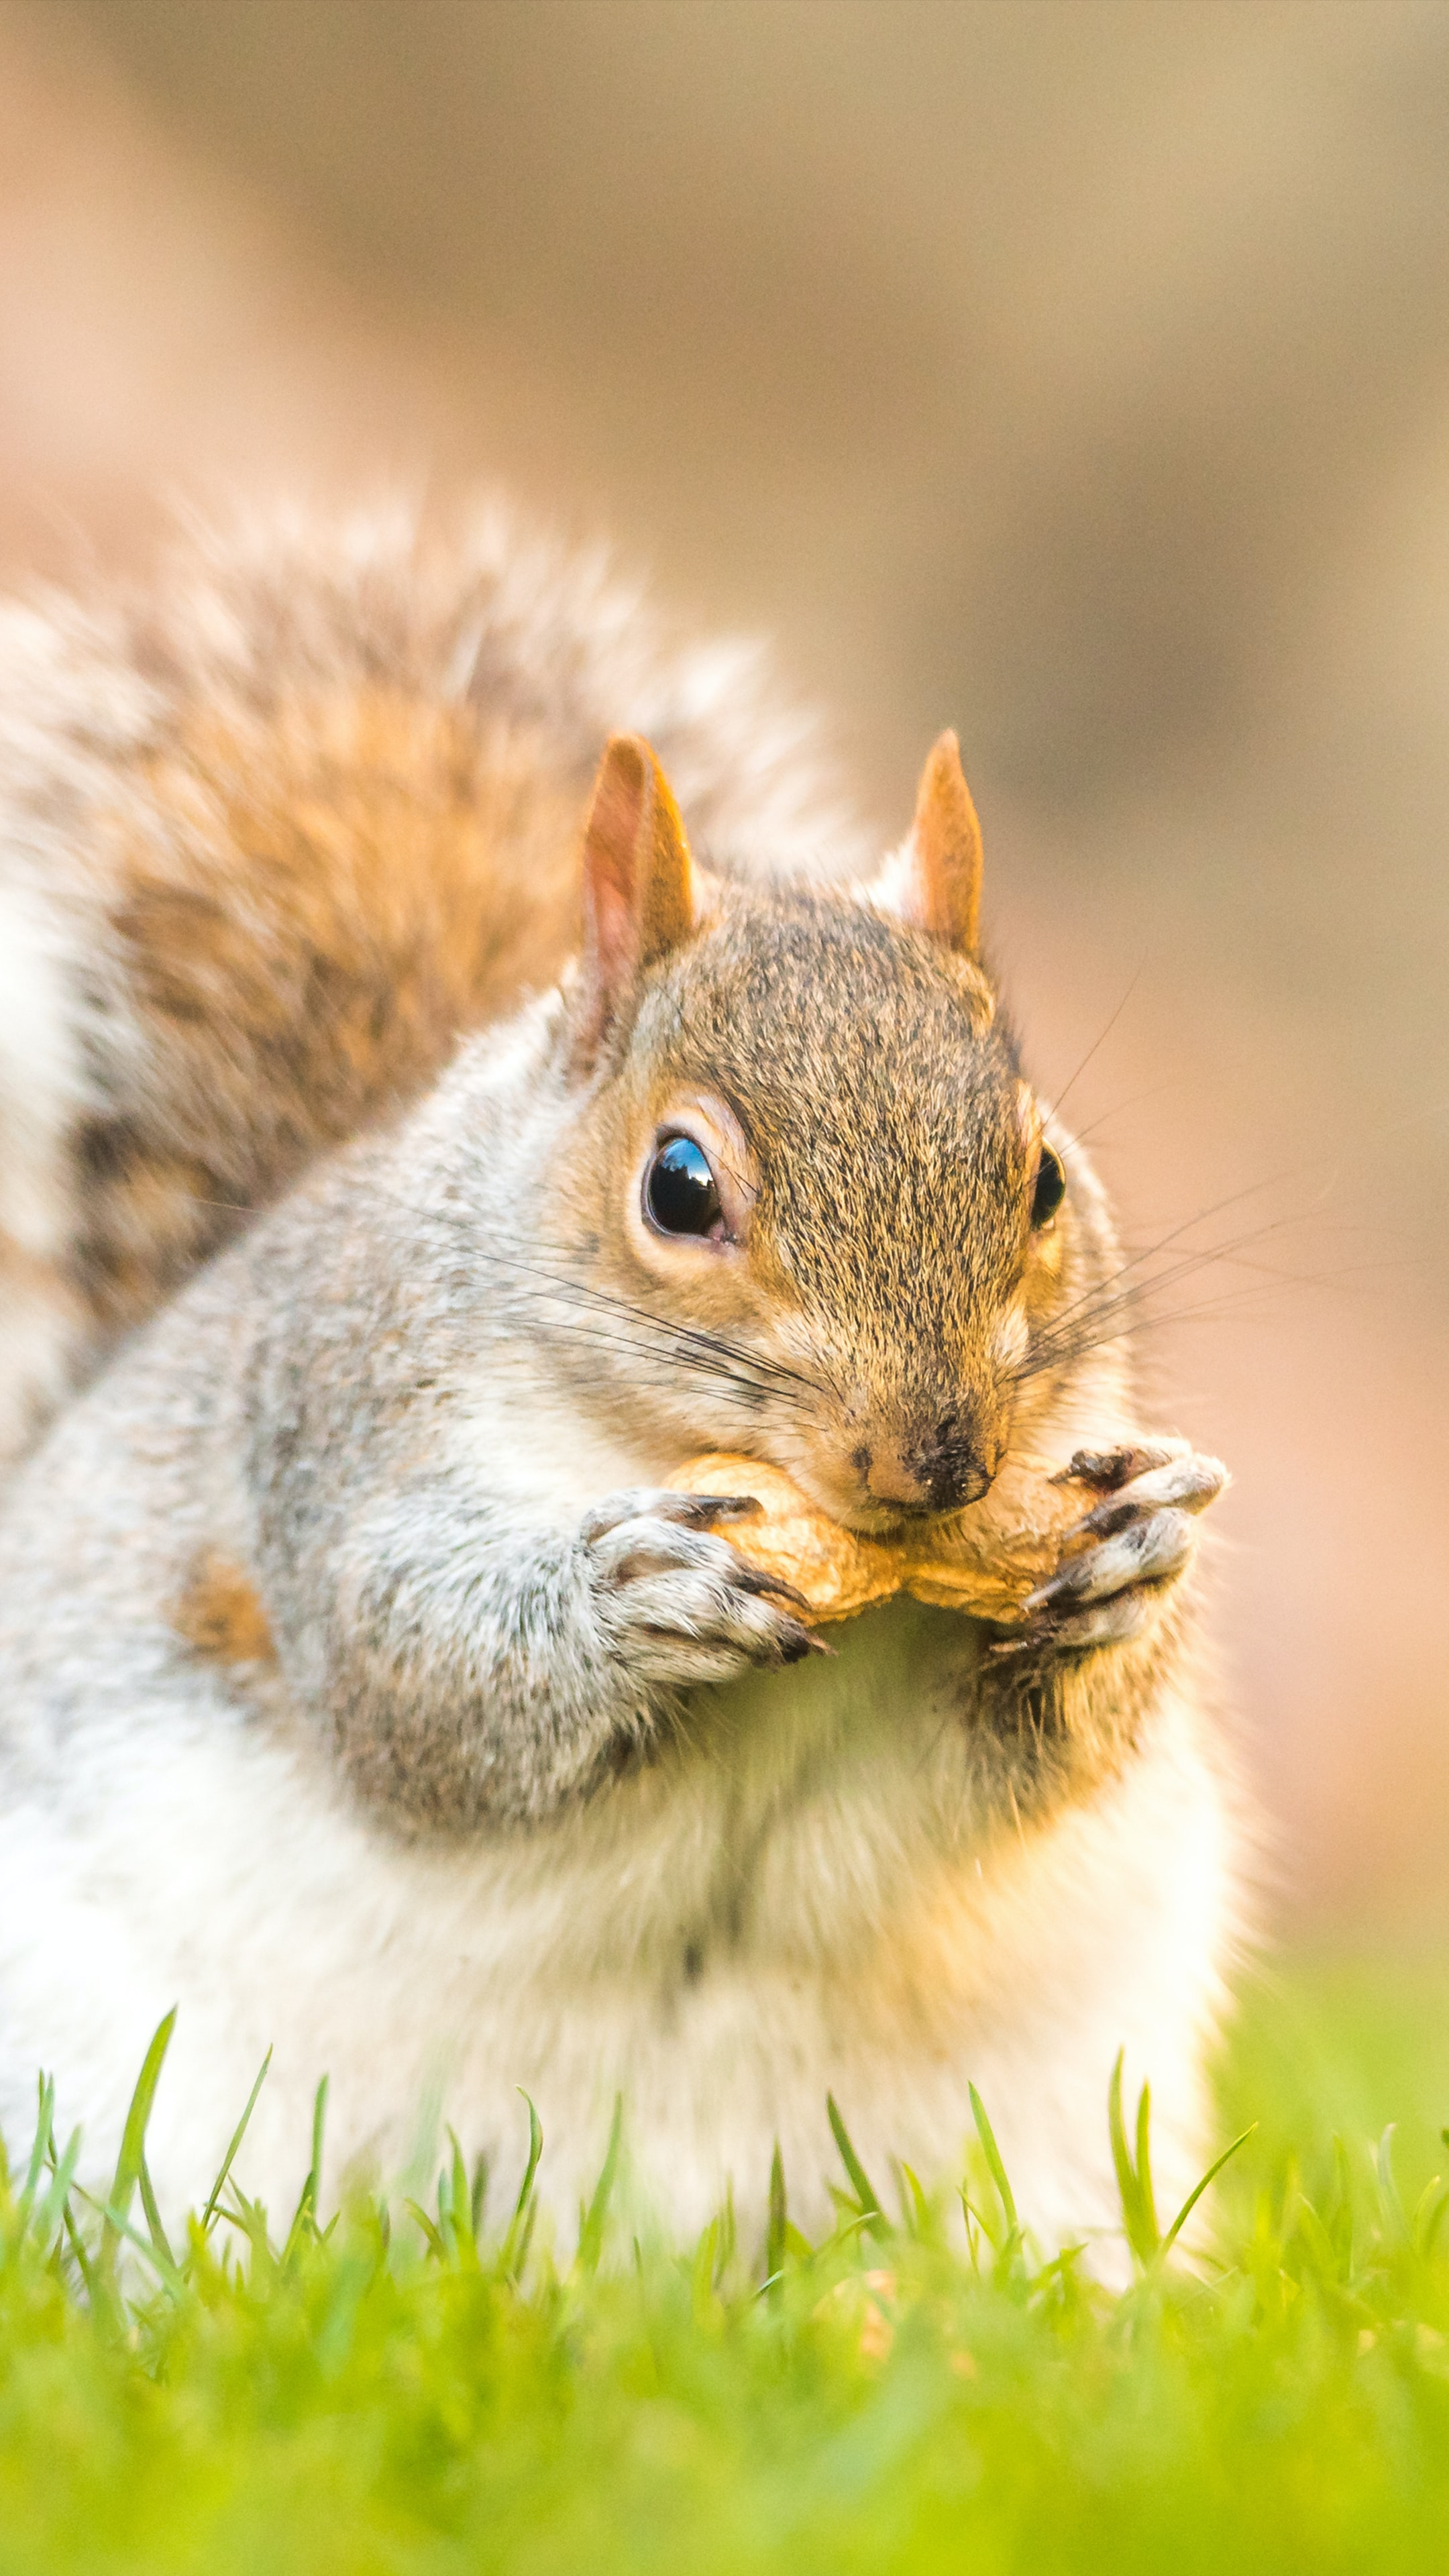squirrel: (0, 609, 1223, 2190)
